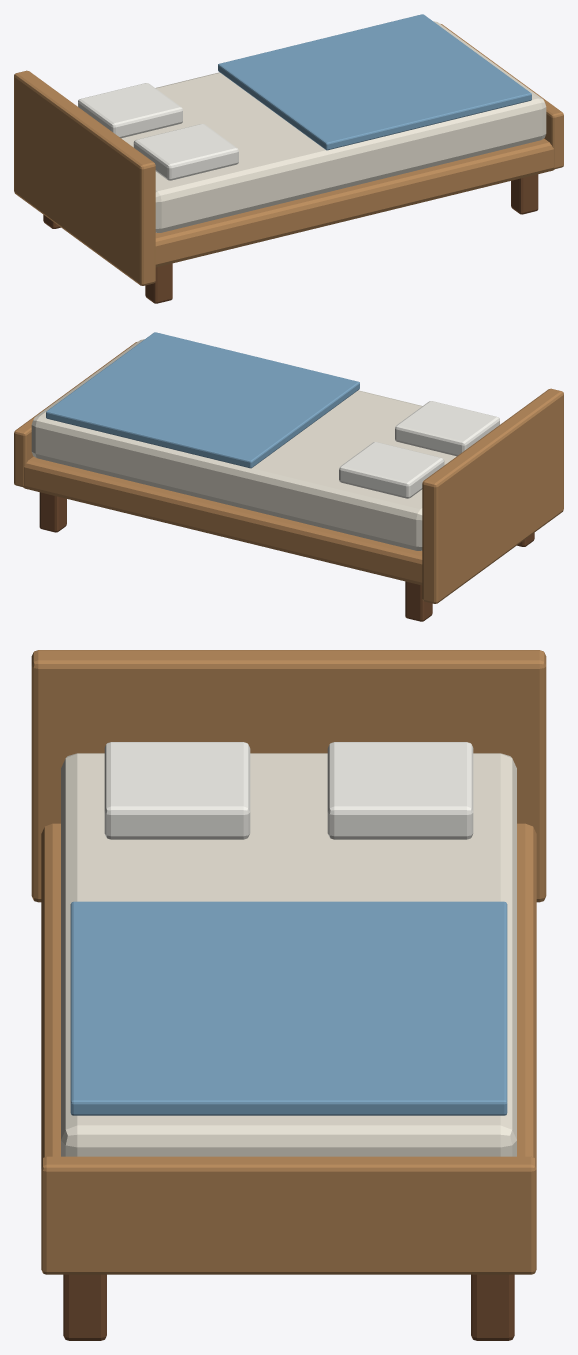
Rendered from bed.glb.
3 views of the same model, one above another, from view 1: azimuth 30°, elevation 25°; view 2: azimuth 150°, elevation 25°; view 3: azimuth 270°, elevation 25° (orthographic). The views are drawn at different scales.
Parts seen in each view (by area): view 1: Bed_Mattress, Bed_Bedspread, Bed_Headboard, Bed_Frame, Bed_Pillow, Bed_Pillow.001, Bed_Footboard, Bed_Leg.002, Bed_Leg; view 2: Bed_Mattress, Bed_Bedspread, Bed_Headboard, Bed_Frame, Bed_Pillow.001, Bed_Pillow, Bed_Footboard, Bed_Leg.003, Bed_Leg.001; view 3: Bed_Bedspread, Bed_Mattress, Bed_Footboard, Bed_Headboard, Bed_Pillow, Bed_Pillow.001, Bed_Frame, Bed_Leg.002, Bed_Leg.003.
Boxes of the visible parts, box(x1,y1,x2,y2) form: Bed_Mattress: box(121, 21, 546, 232); Bed_Bedspread: box(218, 14, 531, 150); Bed_Headboard: box(14, 70, 155, 285); Bed_Frame: box(155, 138, 554, 267); Bed_Pillow: box(133, 124, 238, 180); Bed_Pillow.001: box(78, 83, 182, 138); Bed_Footboard: box(441, 24, 563, 169); Bed_Leg.002: box(511, 174, 538, 214); Bed_Leg: box(145, 263, 172, 303); Bed_Mattress: box(31, 339, 456, 550); Bed_Bedspread: box(46, 332, 359, 468); Bed_Headboard: box(422, 388, 563, 603); Bed_Frame: box(23, 456, 422, 585); Bed_Pillow.001: box(339, 442, 444, 498); Bed_Pillow: box(395, 401, 499, 456); Bed_Footboard: box(14, 342, 136, 487); Bed_Leg.003: box(39, 492, 66, 532); Bed_Leg.001: box(405, 581, 432, 621); Bed_Bedspread: box(70, 901, 507, 1115); Bed_Mattress: box(61, 753, 516, 1156); Bed_Footboard: box(41, 1156, 536, 1274); Bed_Headboard: box(31, 650, 546, 902); Bed_Pillow: box(104, 742, 250, 839); Bed_Pillow.001: box(327, 742, 473, 839); Bed_Frame: box(41, 823, 536, 1160); Bed_Leg.002: box(63, 1274, 106, 1340); Bed_Leg.003: box(471, 1274, 514, 1340).
Size of the model in its own units: 2.03 by 0.68 by 1.06.
